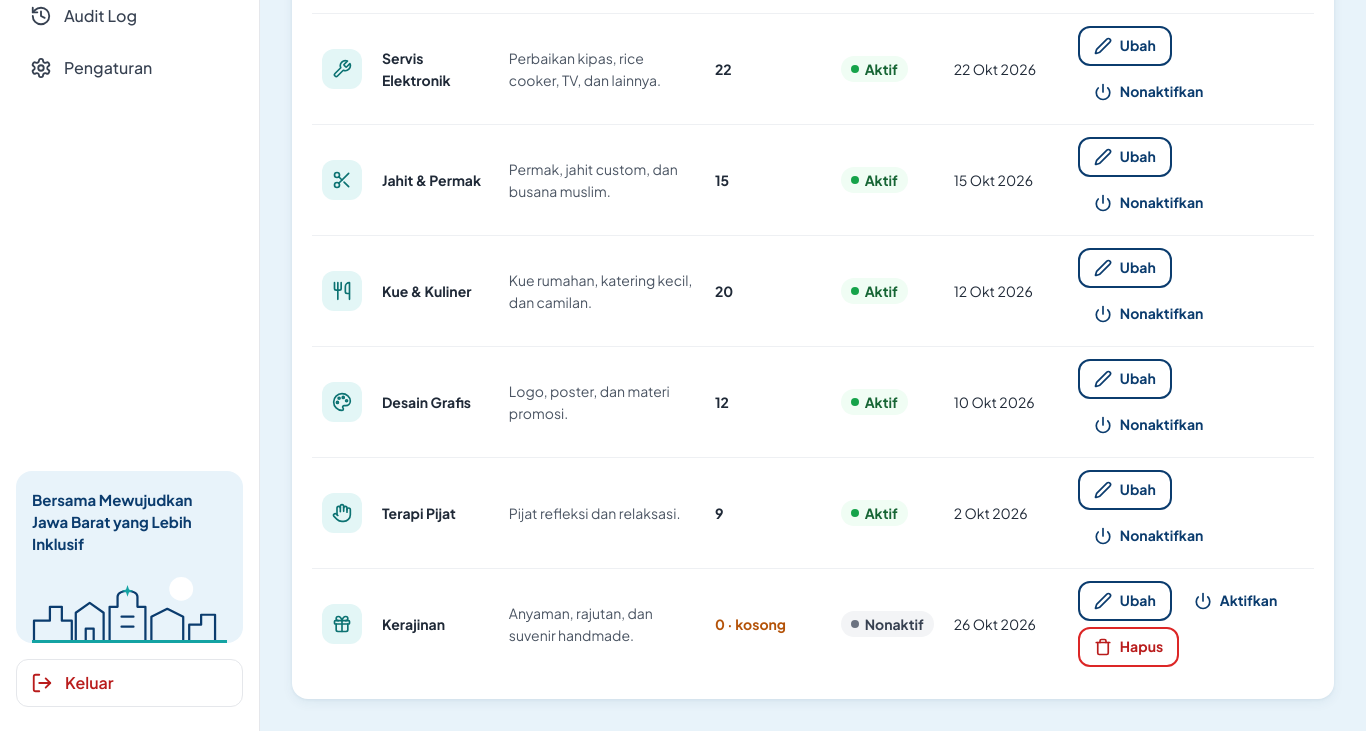
Test: Kategori Layanan › mengubah kategori yang ada
The image size is (1366, 731).
(page scrolled)
Click the button with aria-label "Ubah kategori Desain Grafis" at (1125, 379), box left=1078, top=359, right=1172, bottom=399
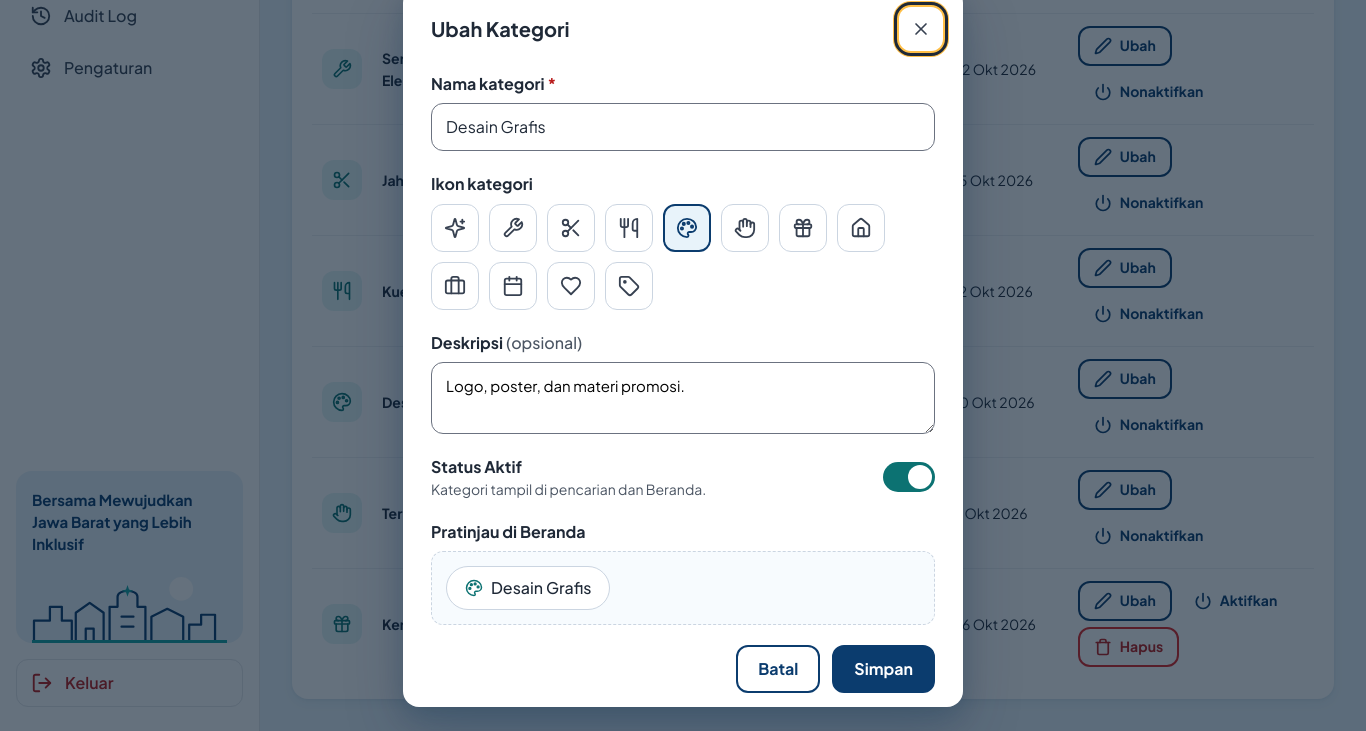
Now the field labelled "Nama kategori *" holds "Desain Grafis", box left=431, top=103, right=935, bottom=151
Replace the text in the text box labelled "Deskripsi (opsional)" with "Logo, poster, dan kemasan." at (683, 398), box left=431, top=362, right=935, bottom=434
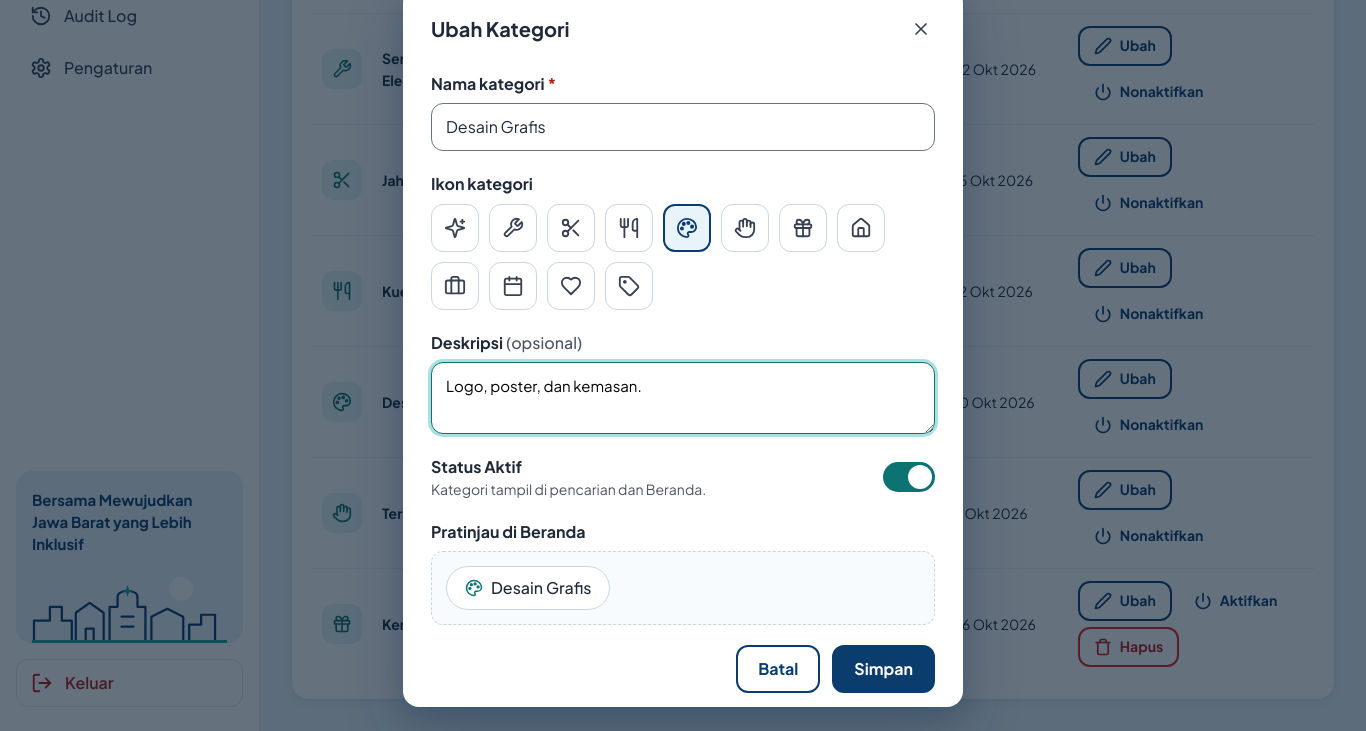
Click the button "Simpan" at (884, 669), box left=832, top=645, right=935, bottom=693
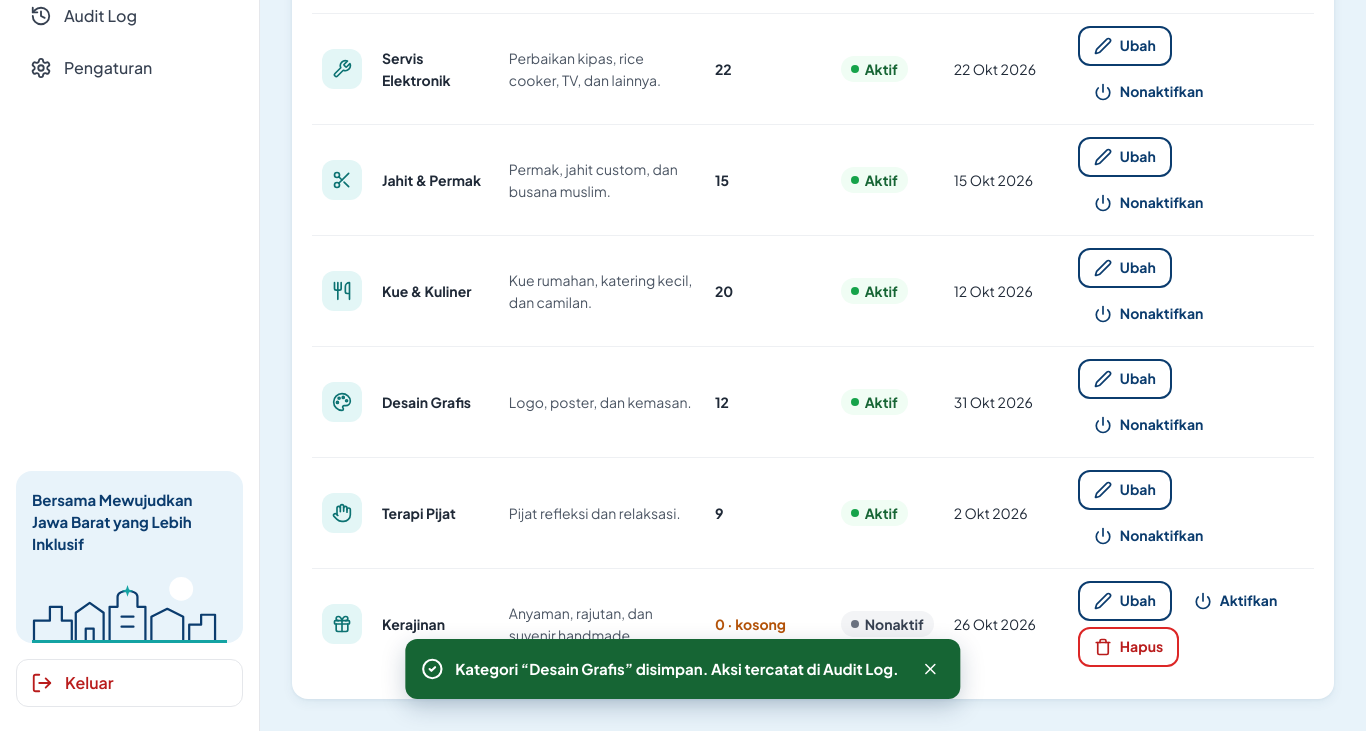
Now the text "Desain Grafis" shows "Logo, poster, dan kemasan.", box left=509, top=393, right=692, bottom=411
